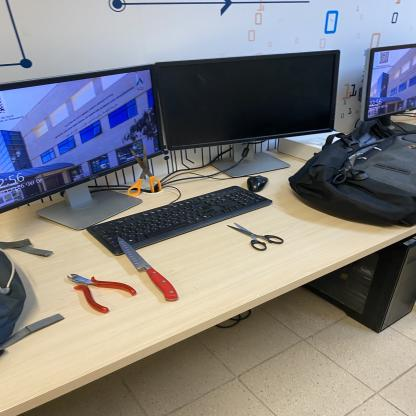Knife: (117, 236, 179, 302)
scissors: (127, 145, 162, 197), (226, 221, 285, 250)
